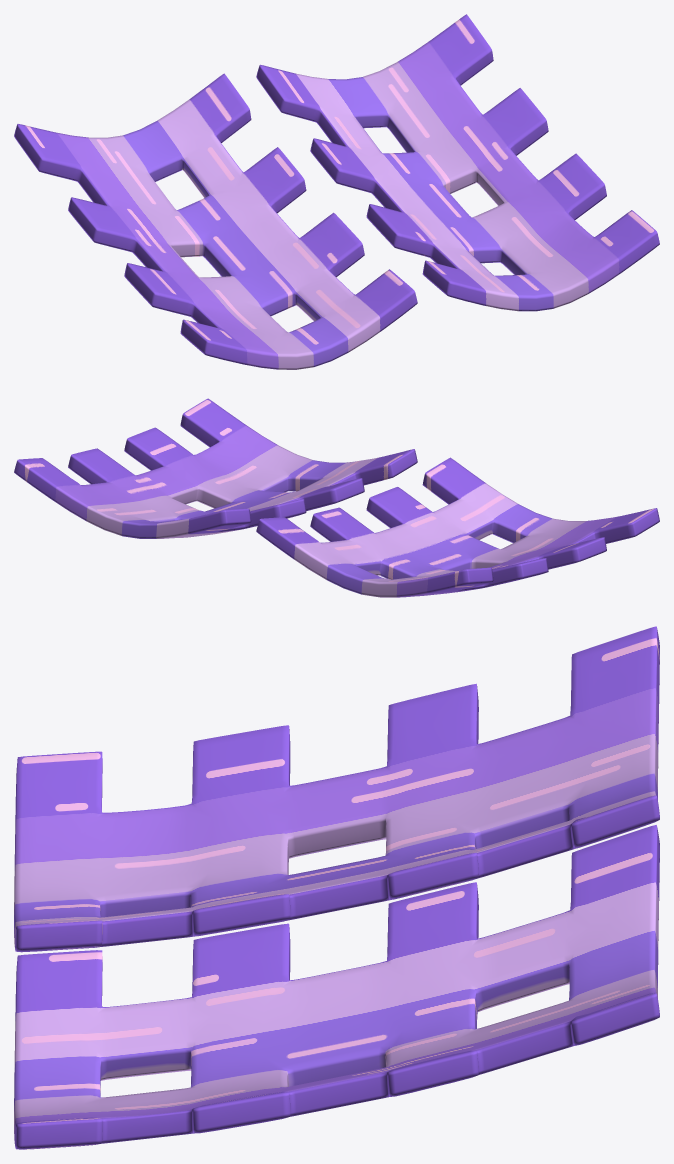
Rendered from purple_bridge.fbx.
3 views of the same model, one above another, from view 1: azimuth 30°, elevation 25°; view 2: azimuth 150°, elevation 25°; view 3: azimuth 270°, elevation 25° (orthographic). The views are drawn at different scales.
Parts seen in each view (by area): view 1: purple_bridge_R, purple_bridge_L; view 2: purple_bridge_L, purple_bridge_R; view 3: purple_bridge_L, purple_bridge_R.
Boxes of the visible parts, left/top/right/bottom form: purple_bridge_R: left=256, top=14, right=659, bottom=311; purple_bridge_L: left=14, top=73, right=417, bottom=369; purple_bridge_L: left=256, top=457, right=659, bottom=597; purple_bridge_R: left=14, top=398, right=417, bottom=538; purple_bridge_L: left=14, top=626, right=659, bottom=952; purple_bridge_R: left=14, top=825, right=659, bottom=1149.
Bounding box in the file's own units: 99.89 × 27.15 × 73.3.
Materials: 1 (1 with a texture image).
